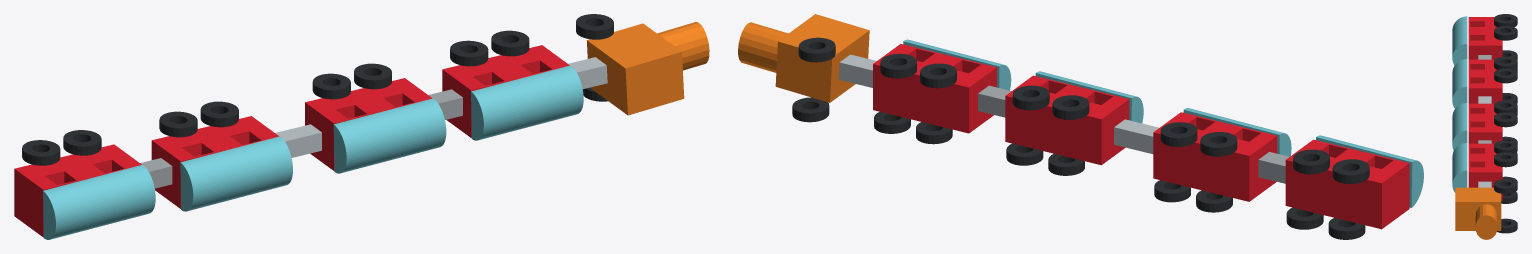
The model's file is tinker.obj.
3 views of the same model, side by side, from view 1: azimuth 30°, elevation 25°; view 2: azimuth 150°, elevation 25°; view 3: azimuth 270°, elevation 25° (orthographic). The views are drawn at different scales.
Parts seen in each view (by area): view 1: group_0_7720667, group_0_15277357, group_0_2829873, group_0_16089887, group_0_12568524, group_0_10988977; view 2: group_0_15277357, group_0_2829873, group_0_16089887, group_0_7720667, group_0_12568524, group_0_10988977; view 3: group_0_15277357, group_0_2829873, group_0_7720667, group_0_16089887, group_0_12568524, group_0_10988977.
Boxes of the visible parts, left/top/right/bottom form: group_0_7720667: left=43, top=65, right=583, bottom=239; group_0_15277357: left=14, top=45, right=569, bottom=237; group_0_2829873: left=22, top=14, right=613, bottom=165; group_0_16089887: left=586, top=22, right=709, bottom=115; group_0_12568524: left=275, top=57, right=607, bottom=157; group_0_10988977: left=140, top=89, right=462, bottom=188; group_0_15277357: left=873, top=44, right=1409, bottom=229; group_0_2829873: left=792, top=37, right=1369, bottom=239; group_0_16089887: left=738, top=14, right=869, bottom=102; group_0_7720667: left=903, top=39, right=1423, bottom=207; group_0_12568524: left=838, top=54, right=1159, bottom=153; group_0_10988977: left=978, top=85, right=1289, bottom=183; group_0_15277357: left=1468, top=17, right=1502, bottom=200; group_0_2829873: left=1494, top=14, right=1517, bottom=233; group_0_7720667: left=1452, top=16, right=1467, bottom=192; group_0_16089887: left=1455, top=187, right=1501, bottom=239; group_0_12568524: left=1478, top=96, right=1491, bottom=187; group_0_10988977: left=1478, top=55, right=1491, bottom=143.
Size of the model in its own units: 311 by 36 by 44.
